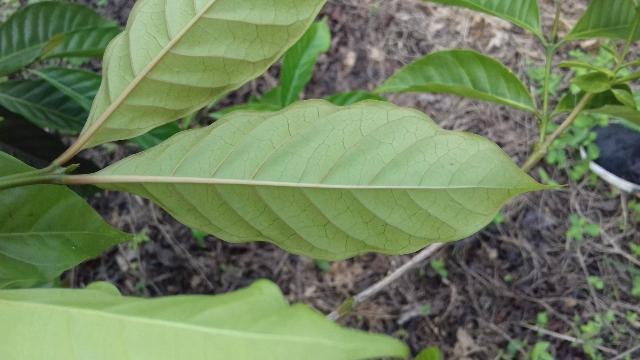healthy: (89, 100, 570, 261)
